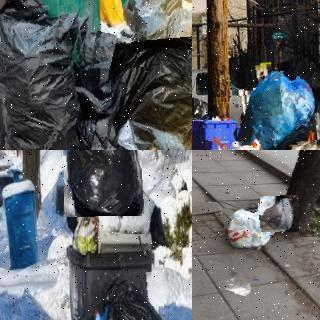Garbage: (0, 5, 92, 150), (100, 36, 192, 150), (232, 61, 315, 150), (73, 32, 124, 150), (62, 150, 143, 216), (122, 0, 192, 66), (99, 271, 180, 320), (223, 204, 284, 252), (261, 196, 299, 232), (227, 136, 262, 150)
